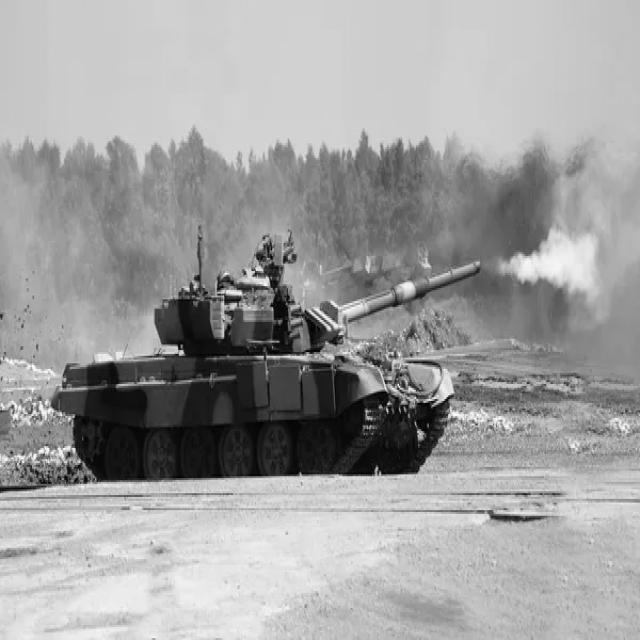Tank: (47, 202, 486, 486)
